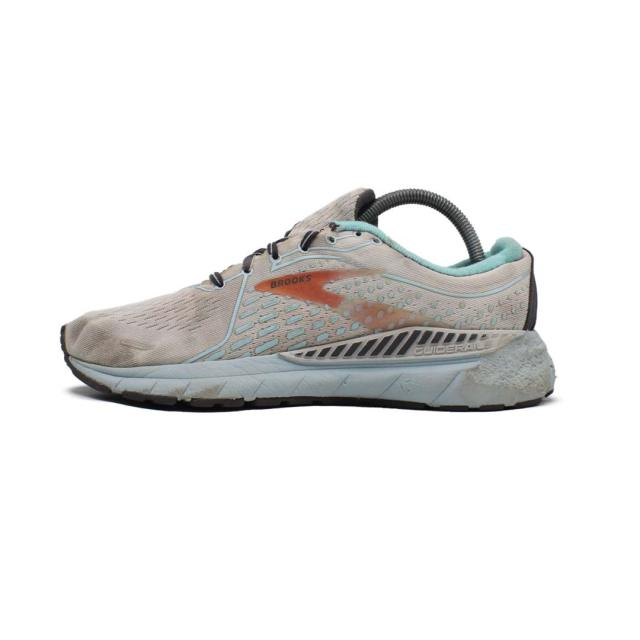heel: (504, 236, 536, 332)
midsole: (58, 326, 555, 410)
uppersole: (66, 189, 505, 361)
